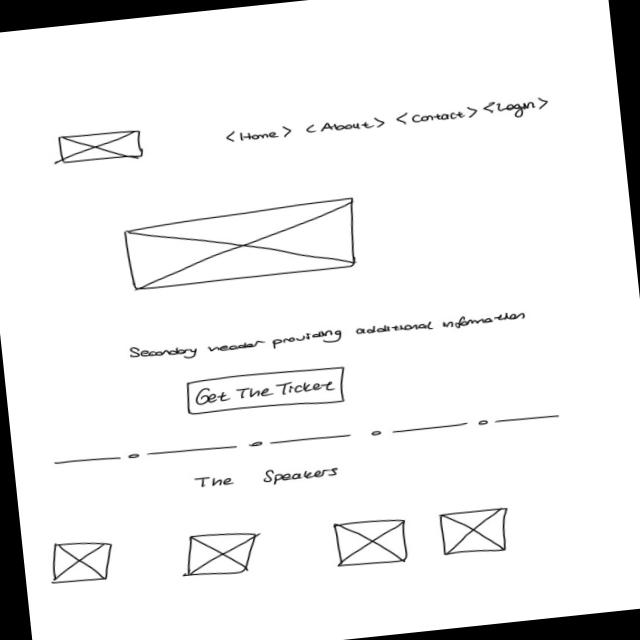button: (183, 362, 349, 420)
image: (122, 194, 362, 292), (328, 514, 411, 569), (436, 504, 513, 560), (180, 527, 260, 580), (56, 126, 144, 166), (47, 536, 116, 586)
label: (126, 305, 526, 365), (192, 459, 346, 494)
link: (392, 102, 478, 128), (305, 113, 386, 138), (482, 94, 549, 121), (222, 124, 292, 144)
